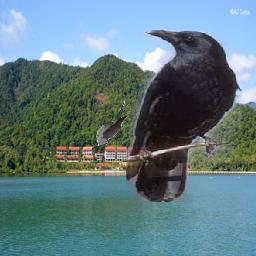Crow: (126, 30, 242, 203)
Cuckoo: (97, 100, 128, 147)
